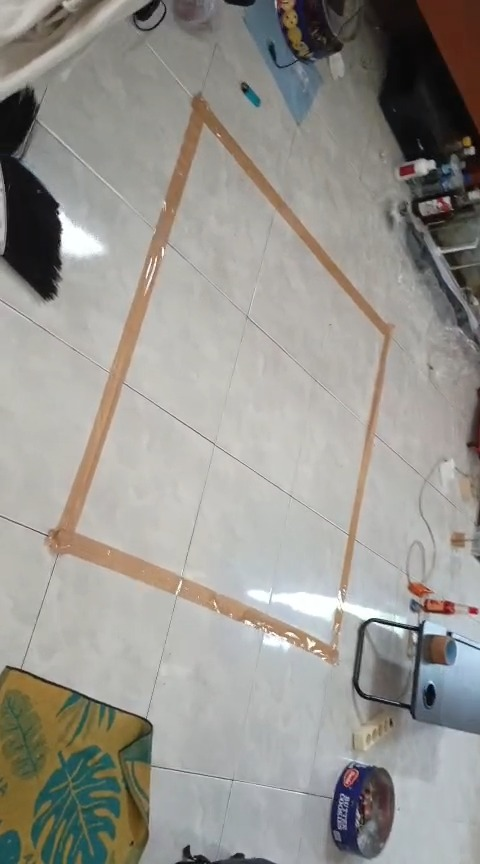floor marking: (47, 96, 392, 662)
